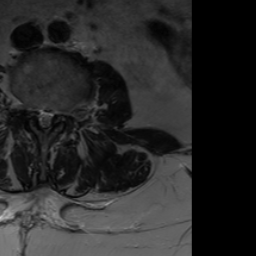CCS_severe_stenosis: (41, 104, 47, 135)
LFS_severe_stenosis: (57, 105, 66, 123)
LLS_severe_stenosis: (49, 105, 56, 124)
RFS_severe_stenosis: (25, 101, 34, 121)
RLS_stenosis: (35, 102, 43, 125)
